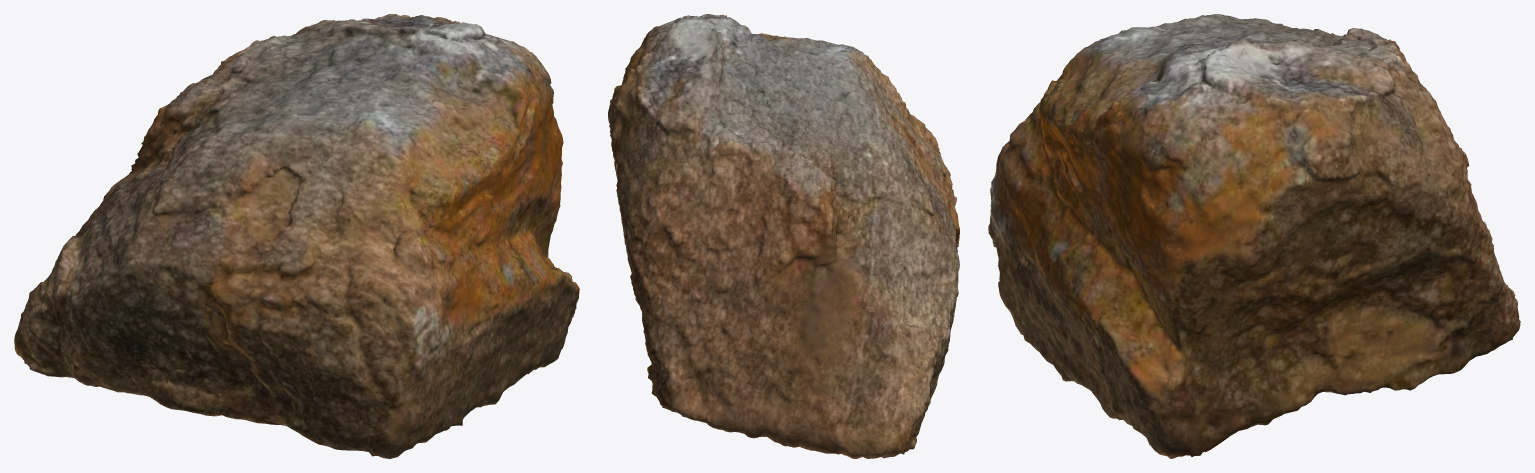
Rendered from boulder_small_low.glb.
3 renders of one model, left to right at view 1: azimuth 30°, elevation 25°; view 2: azimuth 150°, elevation 25°; view 3: azimuth 270°, elevation 25°, orthographic. The views are drawn at different scales.
Visible parts, largest first — view 1: boulder_04; view 2: boulder_04; view 3: boulder_04.
Boxes of the visible parts, x1=… form: boulder_04: x1=14, y1=14, x2=579, y2=458; boulder_04: x1=608, y1=14, x2=959, y2=458; boulder_04: x1=988, y1=14, x2=1520, y2=458.
Bounding box in the file's own units: 2.52 × 1.9 × 2.5.
Materials: 1 (1 with a texture image).
